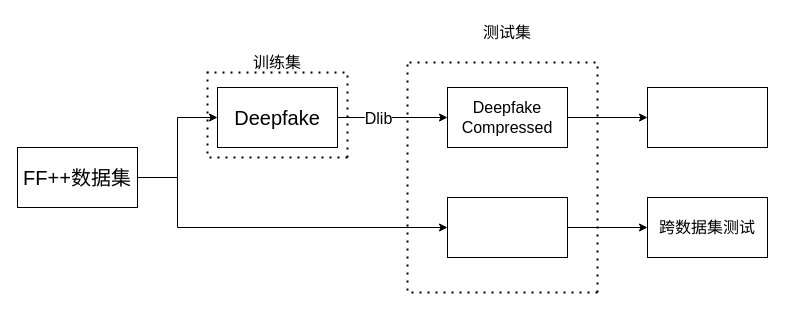
The diagram is 785 pixels wide and 311 high, and some of its shapes have lost their labels. The box of each missing label's shape, as (x1, y1, x2, y2) in pixels:
FaceSwap: (446, 196, 568, 258)
抗压缩测试: (646, 86, 768, 148)
